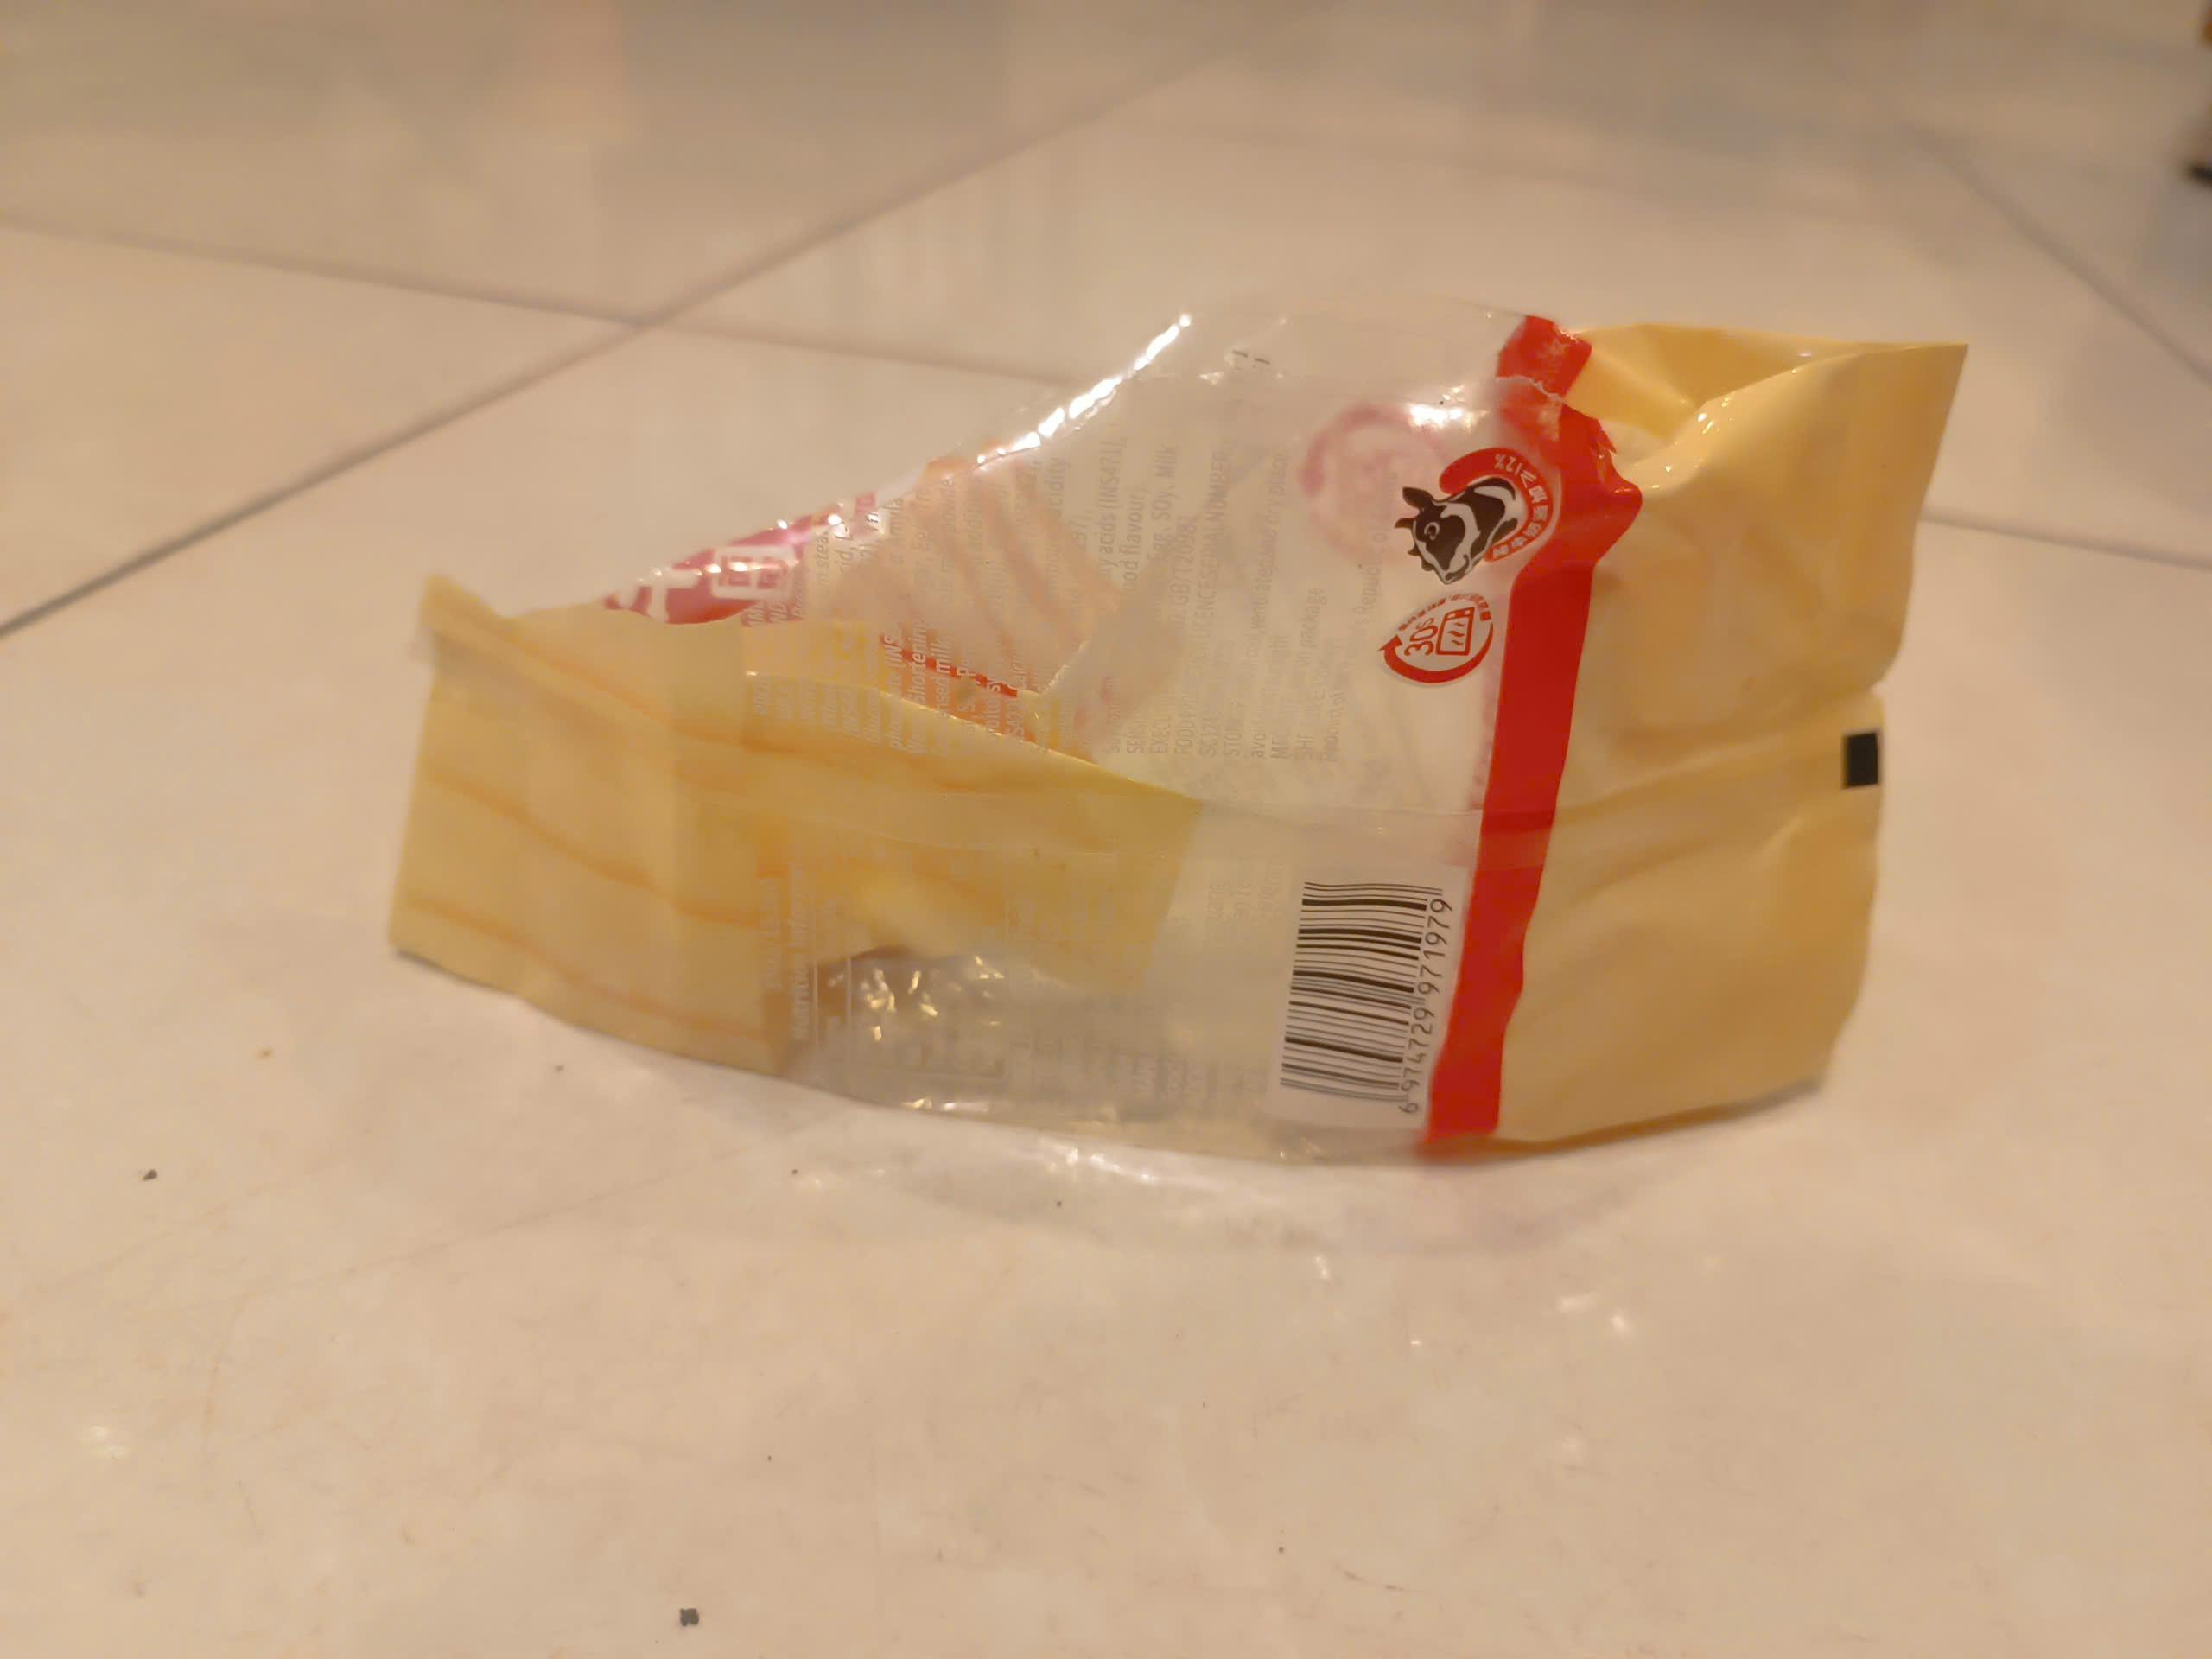Vo co: (374, 291, 1970, 1143)
